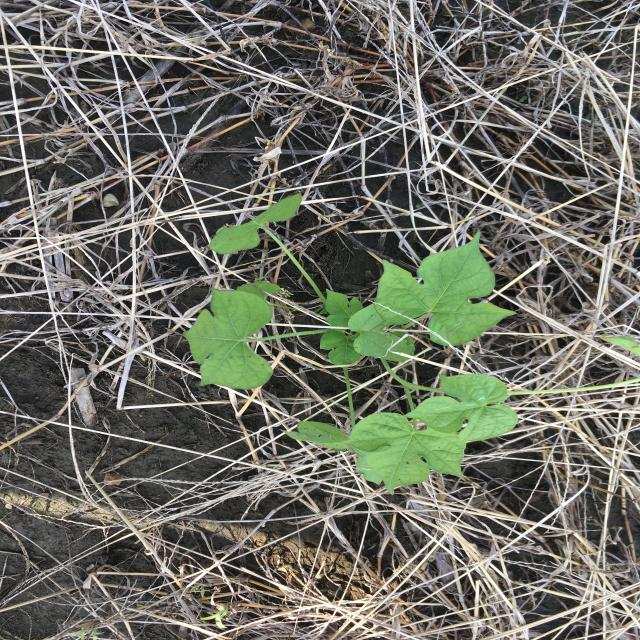MorningGlory: (178, 191, 636, 494)
